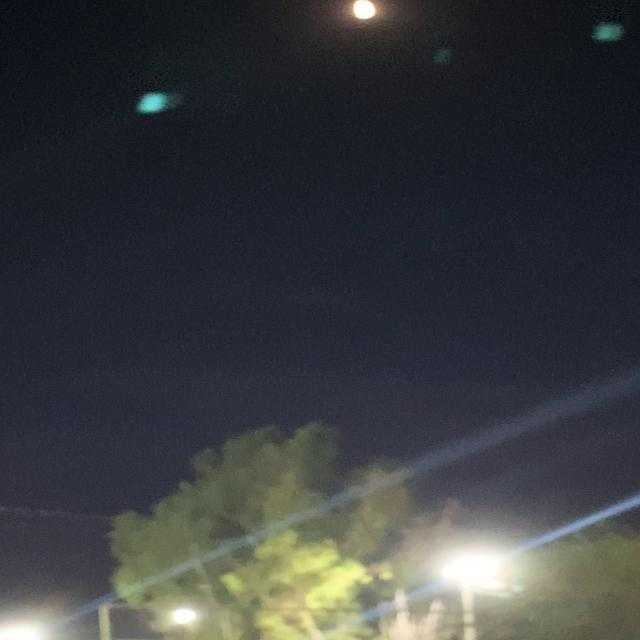moon: (332, 0, 391, 26)
